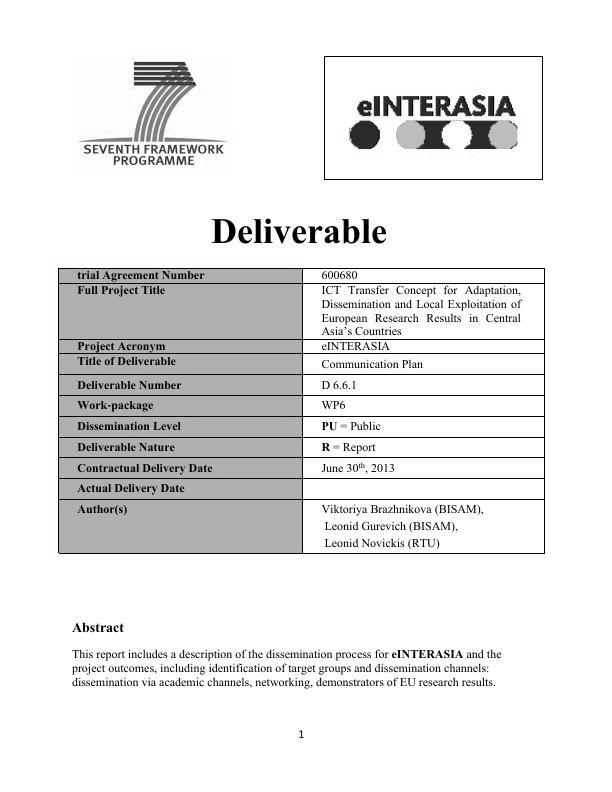table: (54, 265, 548, 557)
text: (68, 622, 506, 697), (208, 212, 390, 248)
